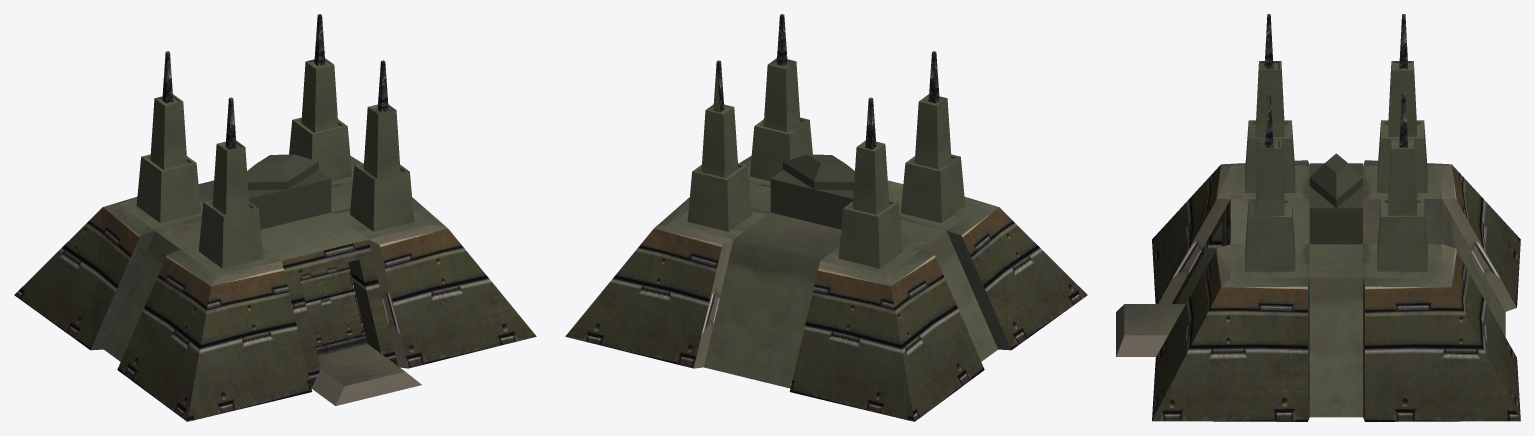
File: barracks.dae
3 renders of one model, left to right at view 1: azimuth 30°, elevation 25°; view 2: azimuth 150°, elevation 25°; view 3: azimuth 270°, elevation 25°, orthographic. The views are drawn at different scales.
Visible parts, largest first — view 1: fortress_sha; view 2: fortress_sha; view 3: fortress_sha.
Part boxes in pixels (<box>): fortress_sha: <box>14,14,536,421</box>; fortress_sha: <box>565,14,1087,421</box>; fortress_sha: <box>1116,14,1520,421</box>.
Bounding box in the file's own units: 33.3 × 31.35 × 23.96.
Materials: 1 (1 with a texture image).
